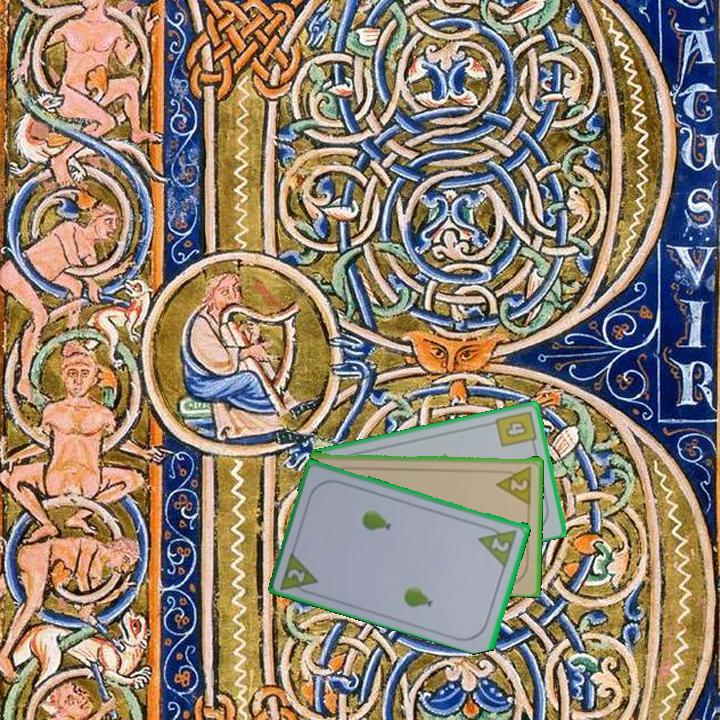2p: (277, 547, 322, 598), (494, 462, 534, 505), (488, 534, 513, 555)
4b: (492, 407, 539, 450)
